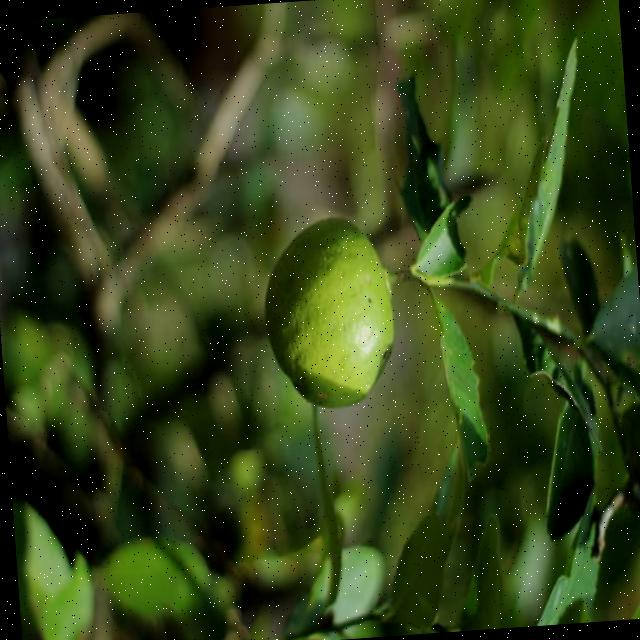Unripe: (257, 210, 408, 412)
